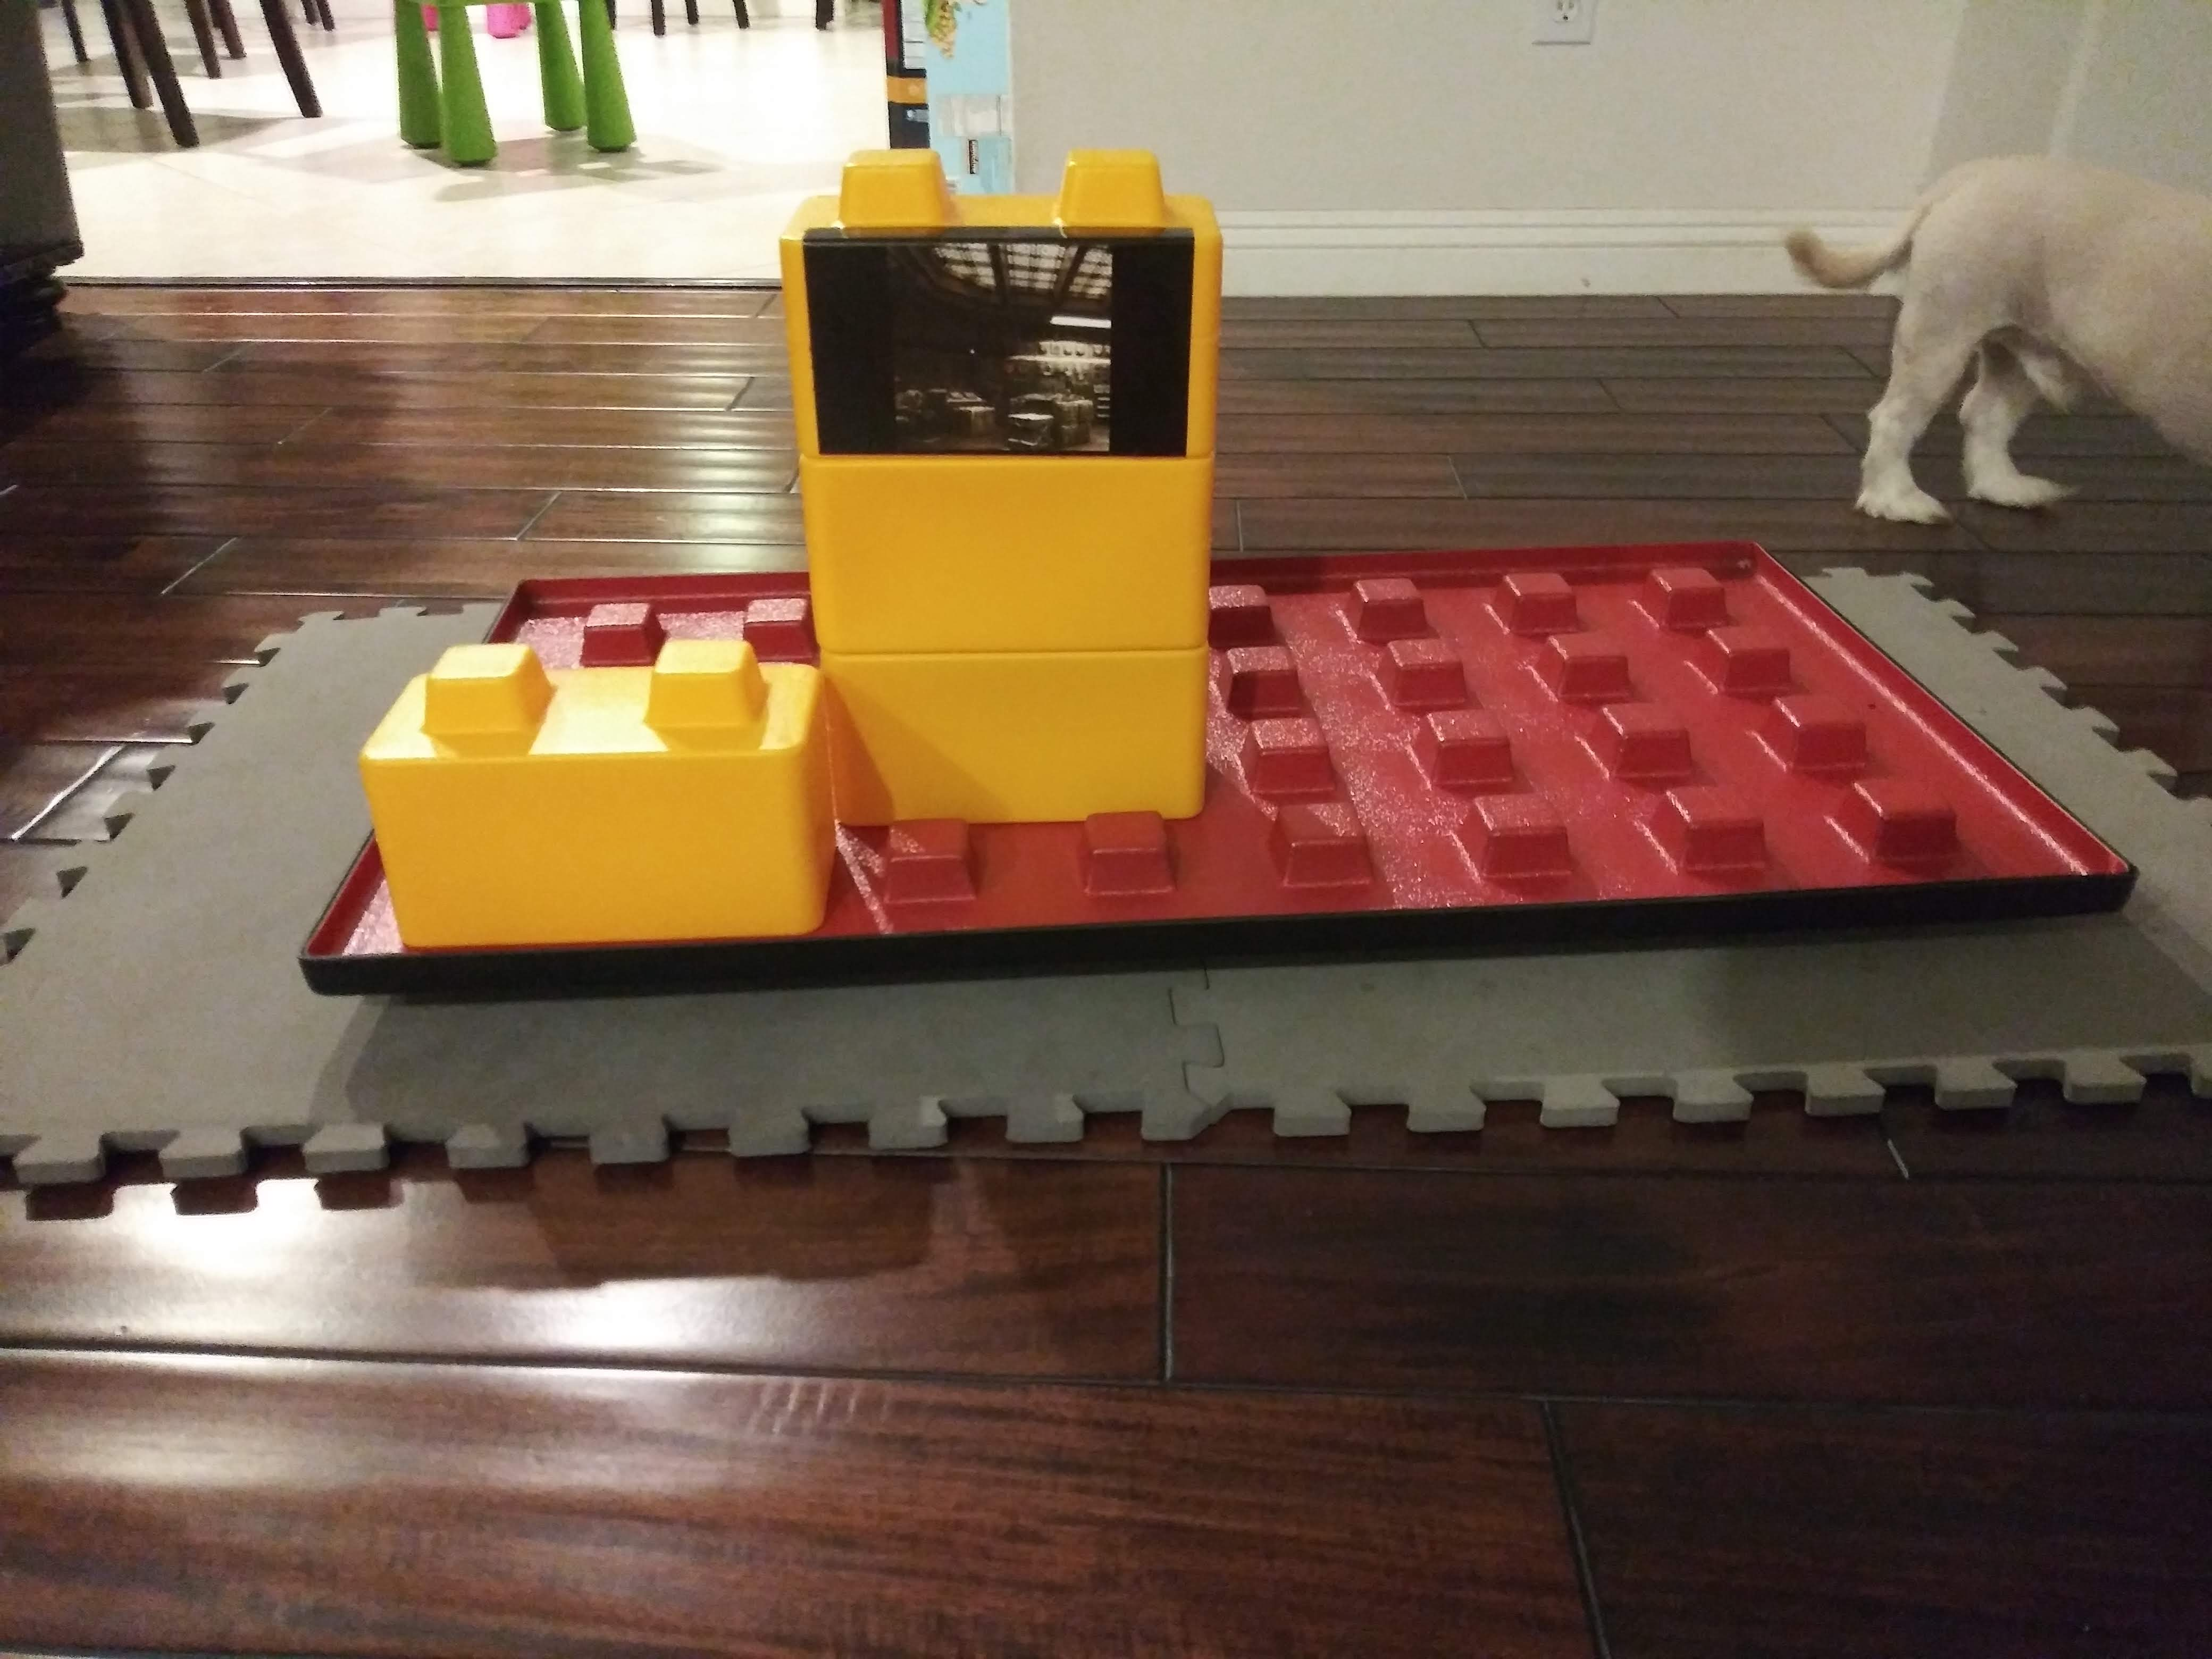red foundation: (319, 528, 2102, 985)
